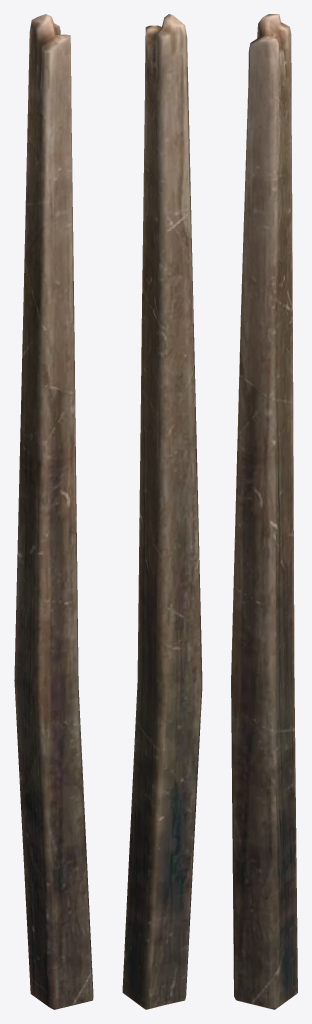
3 views of the same model, side by side, from view 1: azimuth 30°, elevation 25°; view 2: azimuth 210°, elevation 25°; view 3: azimuth 330°, elevation 25° (orthographic).
Visible parts, largest first — view 1: SM_Wooden_Fence_Post_01v1_LOD0; view 2: SM_Wooden_Fence_Post_01v1_LOD0; view 3: SM_Wooden_Fence_Post_01v1_LOD0.
Part boxes in pixels (x1,y1,x2,y2): SM_Wooden_Fence_Post_01v1_LOD0: (14, 14, 93, 1009); SM_Wooden_Fence_Post_01v1_LOD0: (122, 14, 202, 1009); SM_Wooden_Fence_Post_01v1_LOD0: (231, 14, 297, 1009).
Bounding box in the file's own units: 0.1097 × 1.93 × 0.1157.
1 material, 1 textured.
